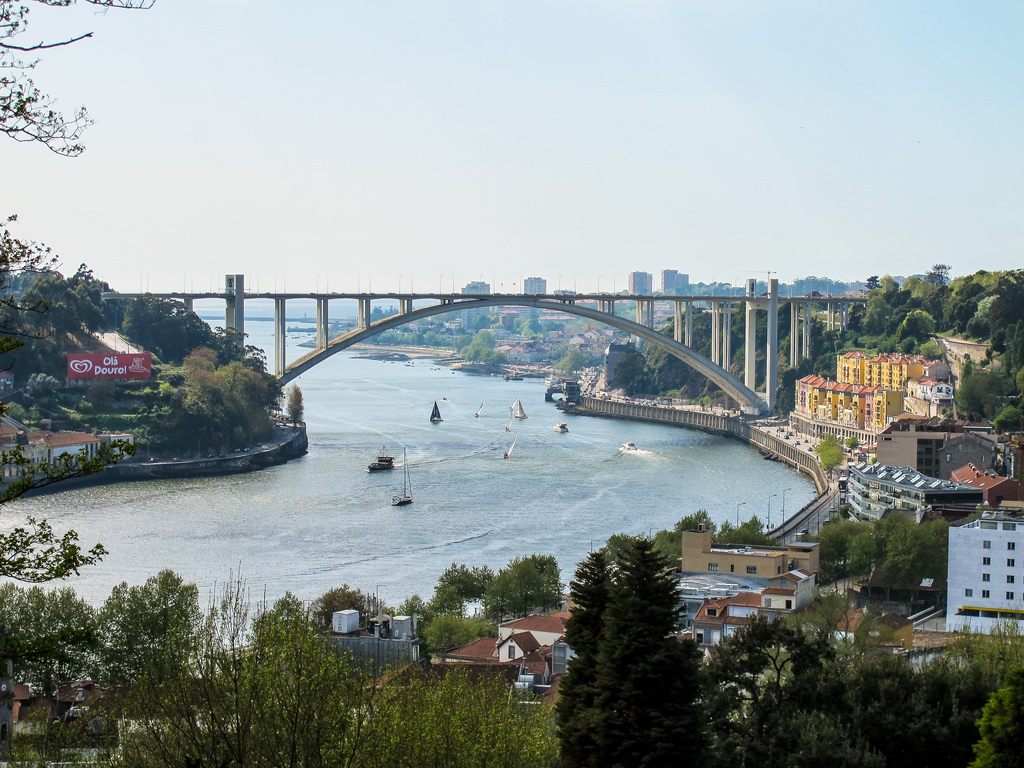arrabida: (96, 273, 868, 421)
